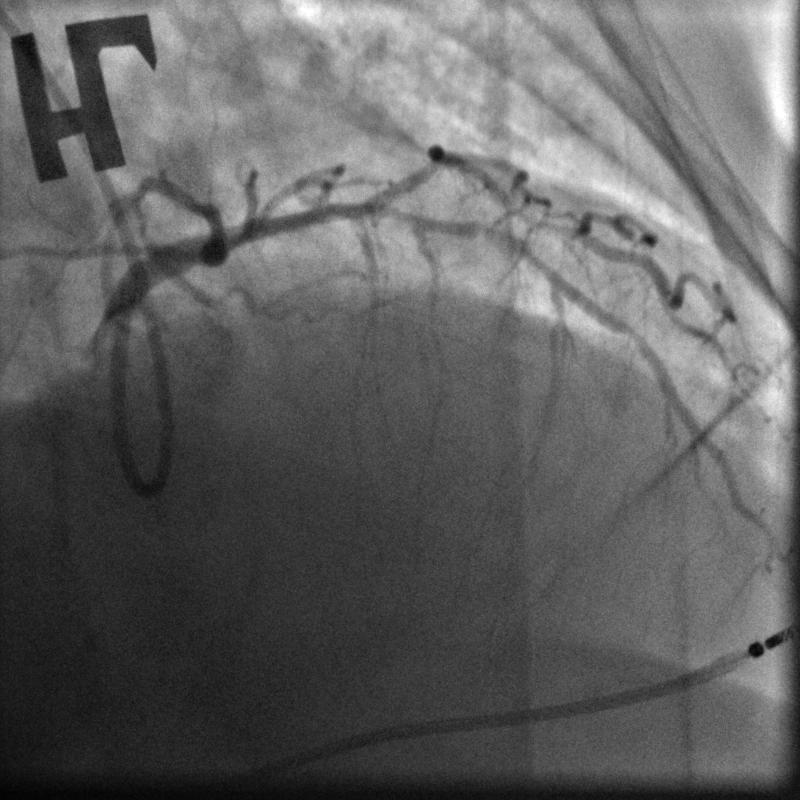Stenosis: (461, 211, 538, 260)
